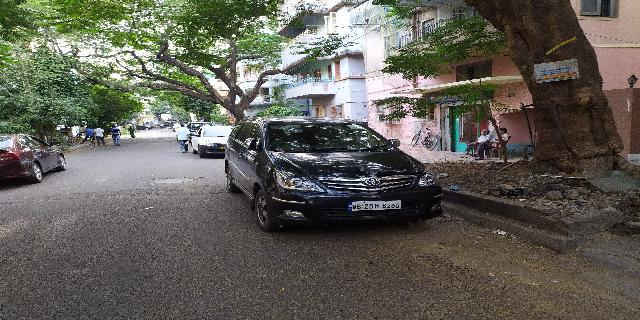Car: (220, 113, 452, 234), (1, 131, 68, 186), (188, 123, 234, 158)
